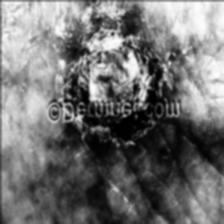Potentially Malignant Skin Tumors: (57, 13, 181, 97), (66, 122, 166, 148)
